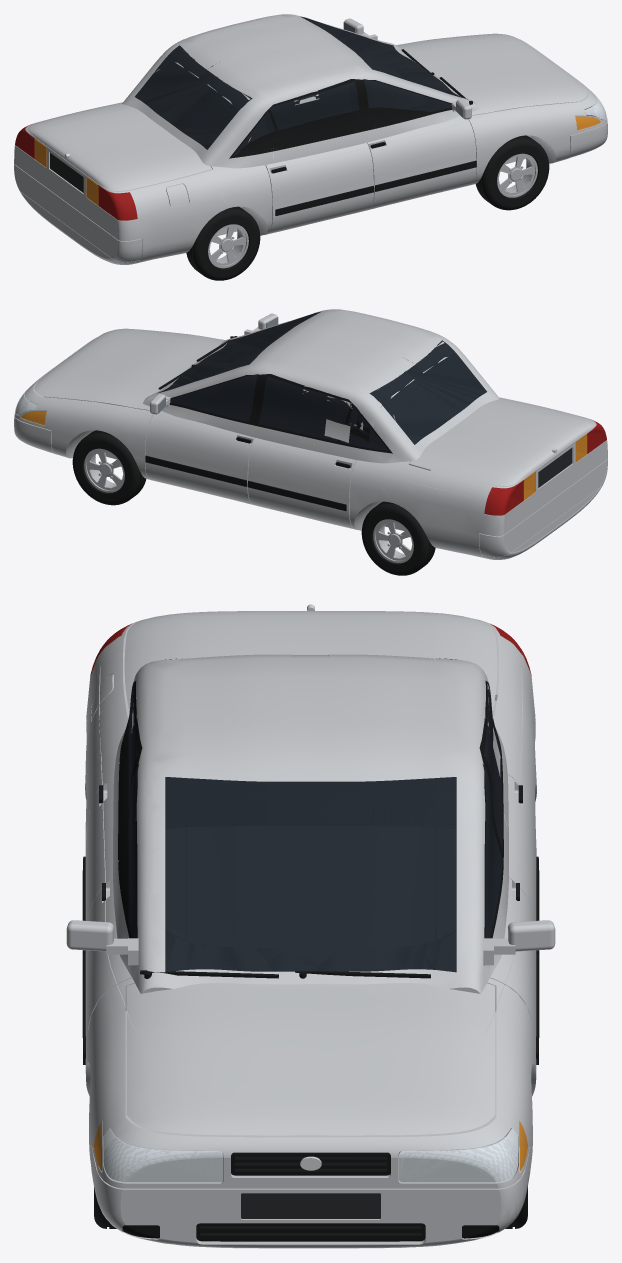
The model's file is sedan.glb.
3 views of the same model, one above another, from view 1: azimuth 30°, elevation 25°; view 2: azimuth 150°, elevation 25°; view 3: azimuth 270°, elevation 25° (orthographic). The views are drawn at different scales.
Visible parts, largest first — view 1: sedan (×8); view 2: sedan (×8); view 3: sedan (×6).
Part boxes in pixels (x1=…): sedan (×8): x1=14, y1=14, x2=607, y2=280; sedan (×8): x1=14, y1=309, x2=607, y2=575; sedan (×6): x1=66, y1=611, x2=555, y2=1248.
Size of the model in its own units: 4.27 by 1.39 by 1.83.
